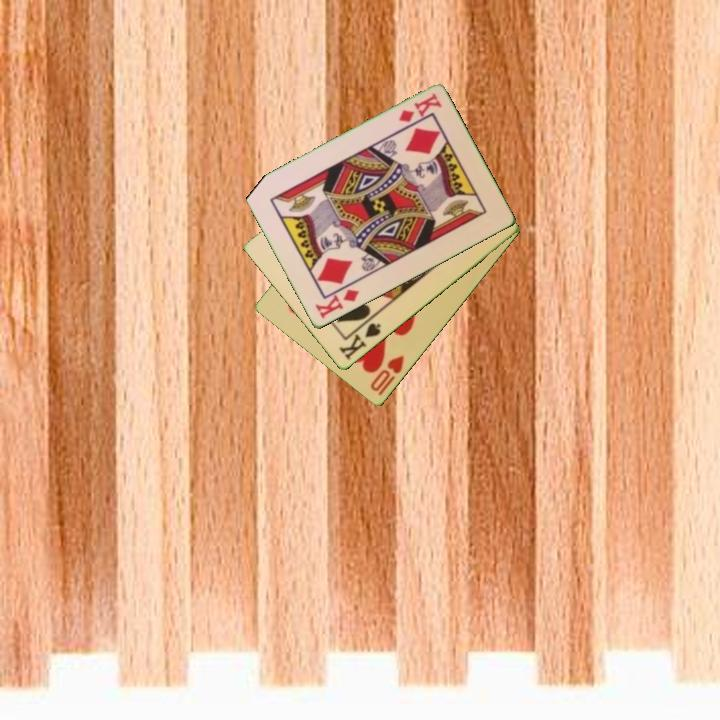10h: (367, 352, 407, 395)
Kd: (311, 286, 362, 322), (395, 90, 444, 126)
Ks: (335, 314, 384, 363)
